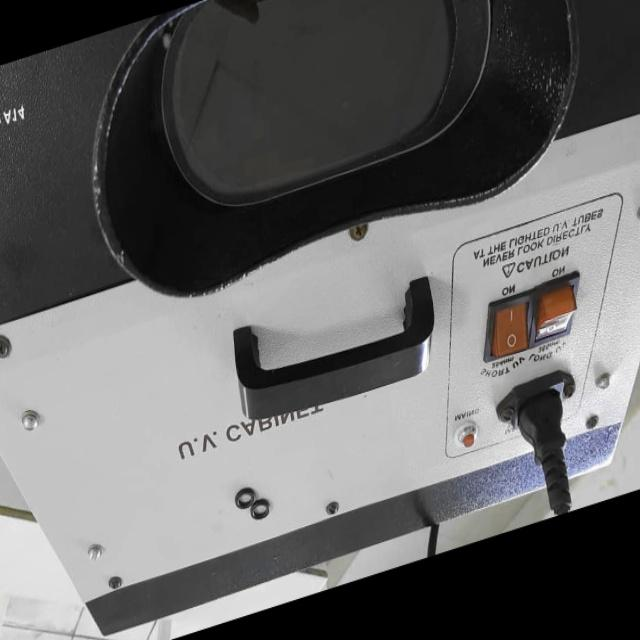U.V Cabinet: (36, 0, 640, 639)
